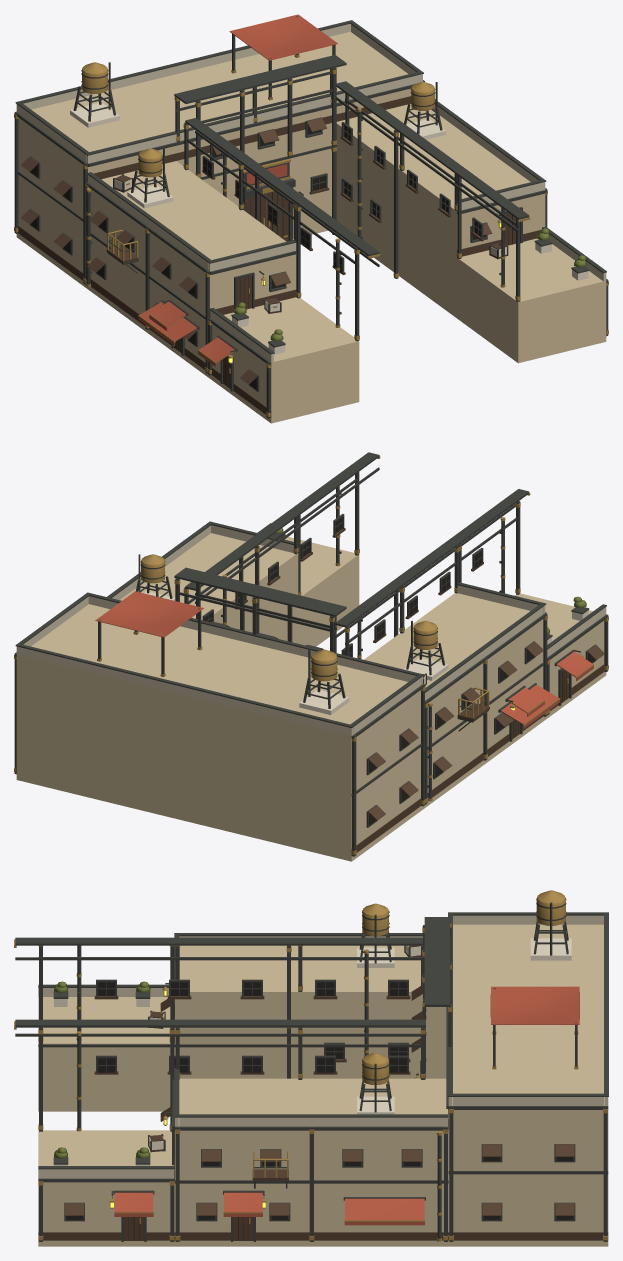
The model's file is stair_well_s.glb.
The picture shows the model from 3 angles, top to bottom: view 1: azimuth 30°, elevation 25°; view 2: azimuth 150°, elevation 25°; view 3: azimuth 270°, elevation 25°; orthographic projection. The views are drawn at different scales.
Visible parts, largest first — view 1: stair_well_s; view 2: stair_well_s; view 3: stair_well_s.
Boxes of the visible parts, x1,y1,x2,y2 form: stair_well_s: [14, 14, 608, 423]; stair_well_s: [14, 452, 608, 861]; stair_well_s: [14, 890, 608, 1246].
Size of the model in its own units: 21.86 by 9.74 by 26.09.
